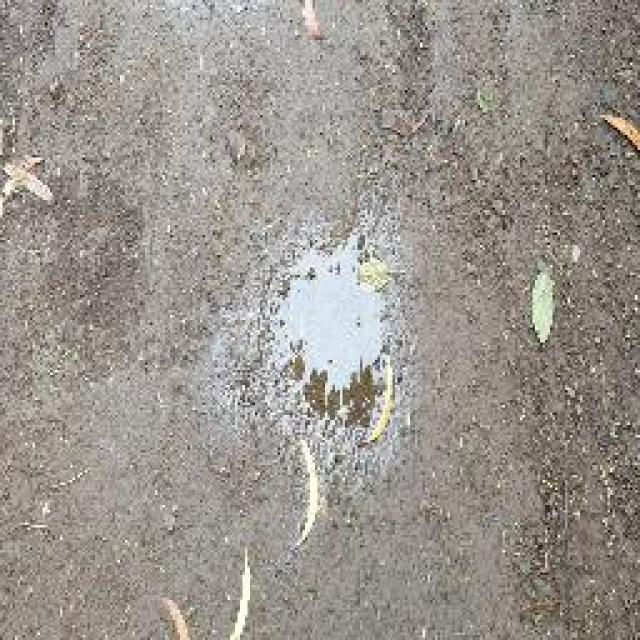puddle: (263, 240, 403, 435)
